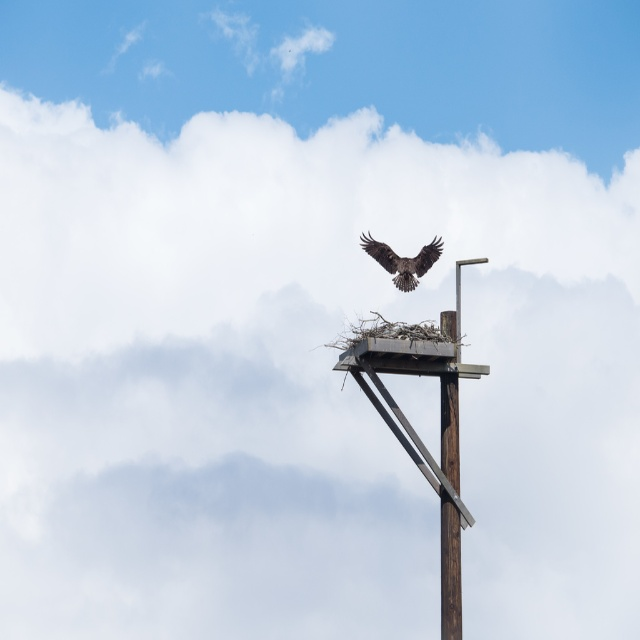Eagle: (352, 219, 454, 315)
